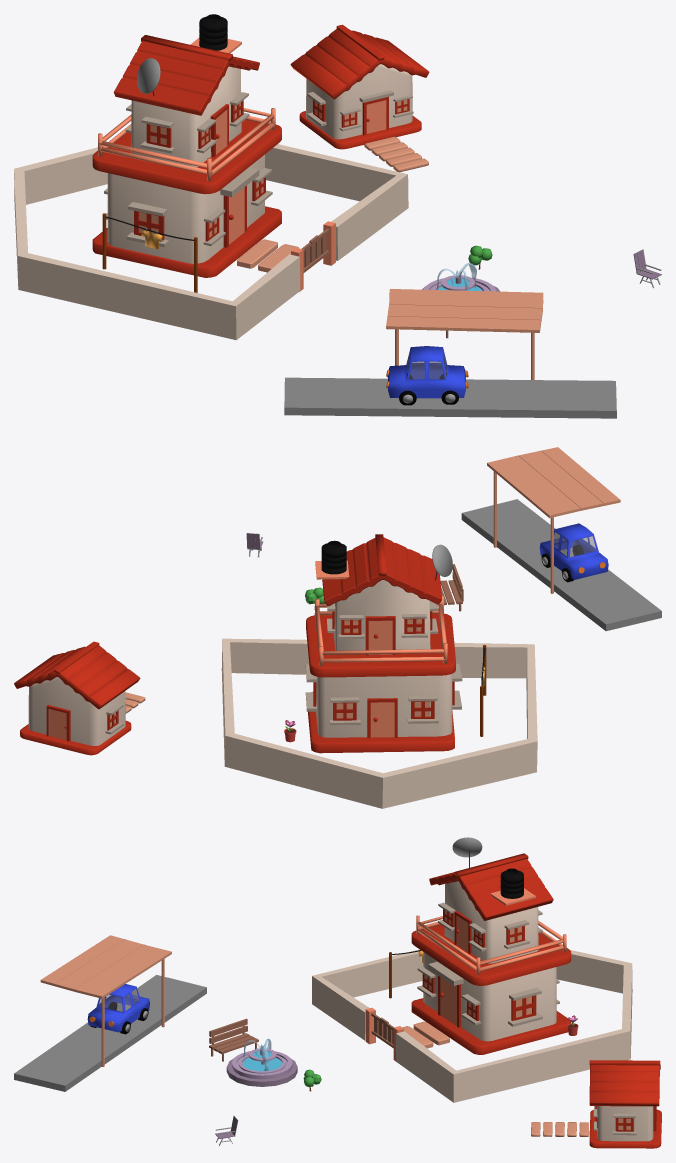
File: Residence FBX.fbx
3 views of the same model, one above another, from view 1: azimuth 30°, elevation 25°; view 2: azimuth 150°, elevation 25°; view 3: azimuth 270°, elevation 25° (orthographic). The views are drawn at different scales.
Parts seen in each view (by area): view 1: house, main wall, Hut, driveway, shed, Car, Fountain, Clothes rack; view 2: house, main wall, Hut, driveway, shed, Car, Bench; view 3: house, main wall, Hut, driveway, shed, Fountain, Car, Bench.
Part boxes in pixels (x1,y1,x2,y2): house: [92, 14, 299, 277]; main wall: [14, 144, 408, 340]; Hut: [290, 24, 429, 172]; driveway: [284, 377, 616, 418]; shed: [386, 289, 543, 379]; Car: [386, 346, 468, 405]; Fountain: [422, 263, 500, 291]; Clothes rack: [102, 213, 197, 292]; house: [305, 534, 462, 753]; main wall: [221, 638, 537, 808]; Hut: [14, 641, 145, 755]; driveway: [461, 499, 661, 631]; shed: [487, 447, 620, 593]; Car: [539, 523, 608, 582]; Bench: [440, 564, 463, 611]; house: [402, 837, 571, 1054]; main wall: [312, 949, 632, 1102]; Hut: [531, 1060, 661, 1148]; driveway: [14, 975, 206, 1091]; shed: [40, 935, 171, 1066]; Fountain: [226, 1038, 297, 1086]; Car: [87, 984, 149, 1034]; Bench: [209, 1018, 258, 1061].
Size of the model in its own units: 190 by 80.01 by 269.
